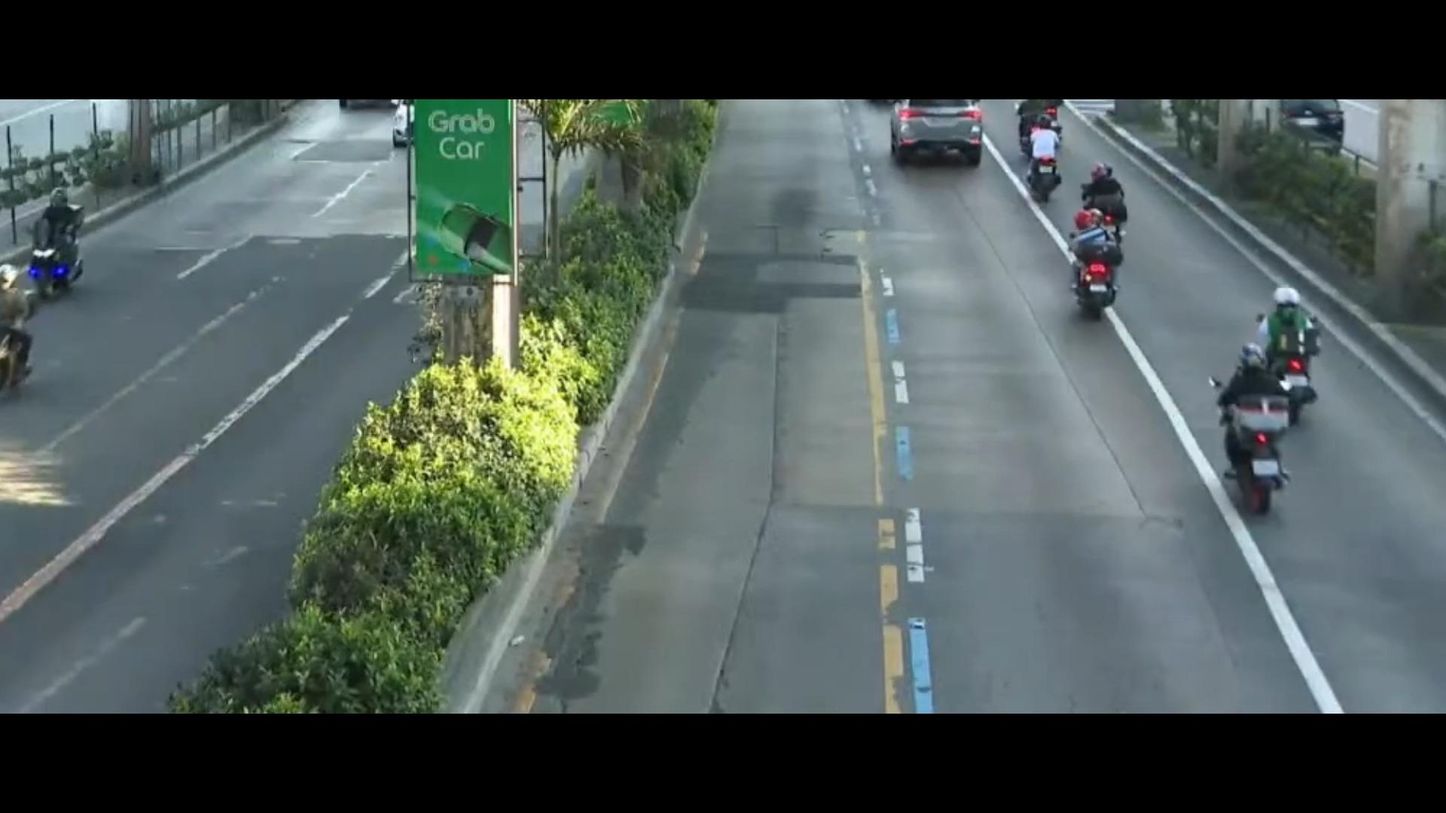Motorcycle: (1189, 349, 1311, 541), (1243, 266, 1326, 425), (1060, 196, 1140, 333), (1076, 156, 1173, 268), (23, 186, 108, 306), (0, 254, 58, 396), (1020, 116, 1080, 208), (990, 103, 1072, 168)
SUV: (872, 101, 995, 176)
